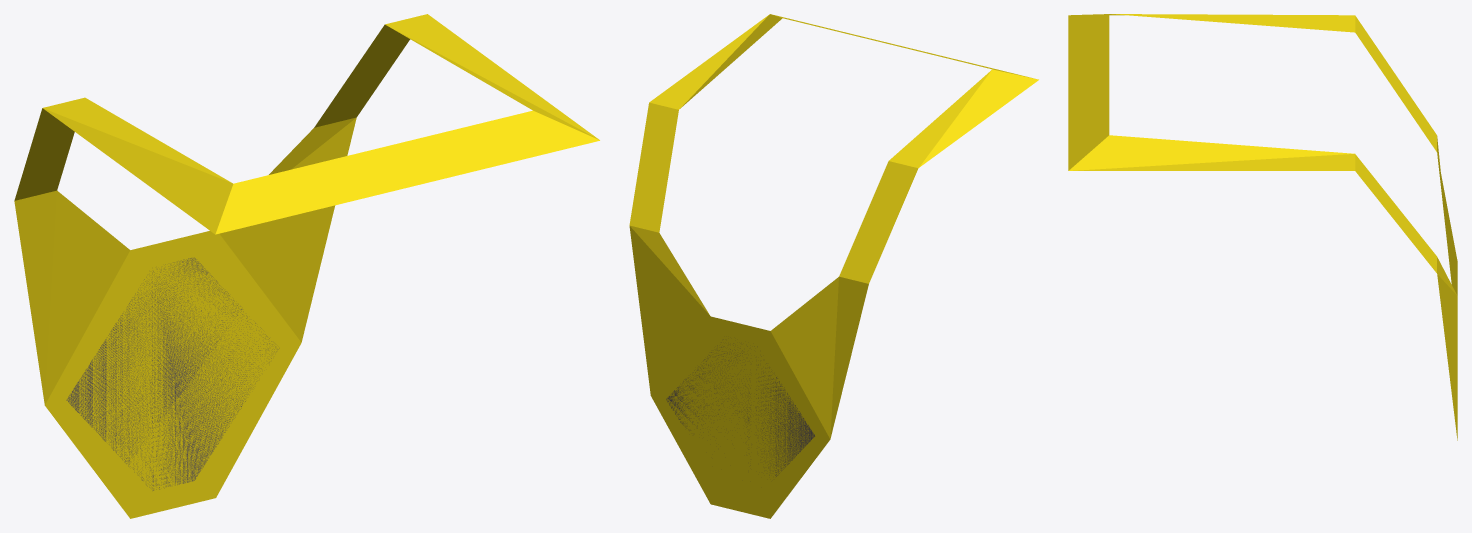
Rendered from npc_world_silver_merchant_7.obj.
3 renders of one model, left to right at view 1: azimuth 30°, elevation 25°; view 2: azimuth 150°, elevation 25°; view 3: azimuth 270°, elevation 25°, orthographic. The views are drawn at different scales.
Bounding box in the file's own units: 0.1406 × 0.1797 × 0.1484.
